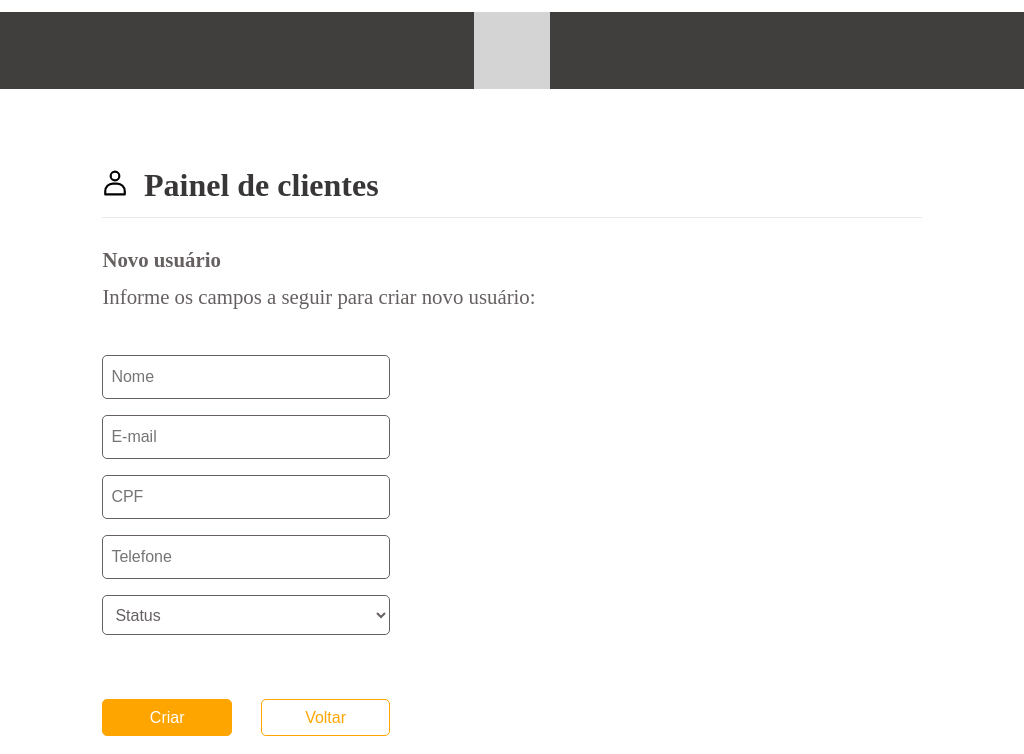
Test: Testando a página de criar usuário › Testa se a mensagem de erro de e-mail já cadastrado aparece corretamente
Type "José" into the field with placeholder "Nome" at (246, 377), box [102, 355, 390, 399]
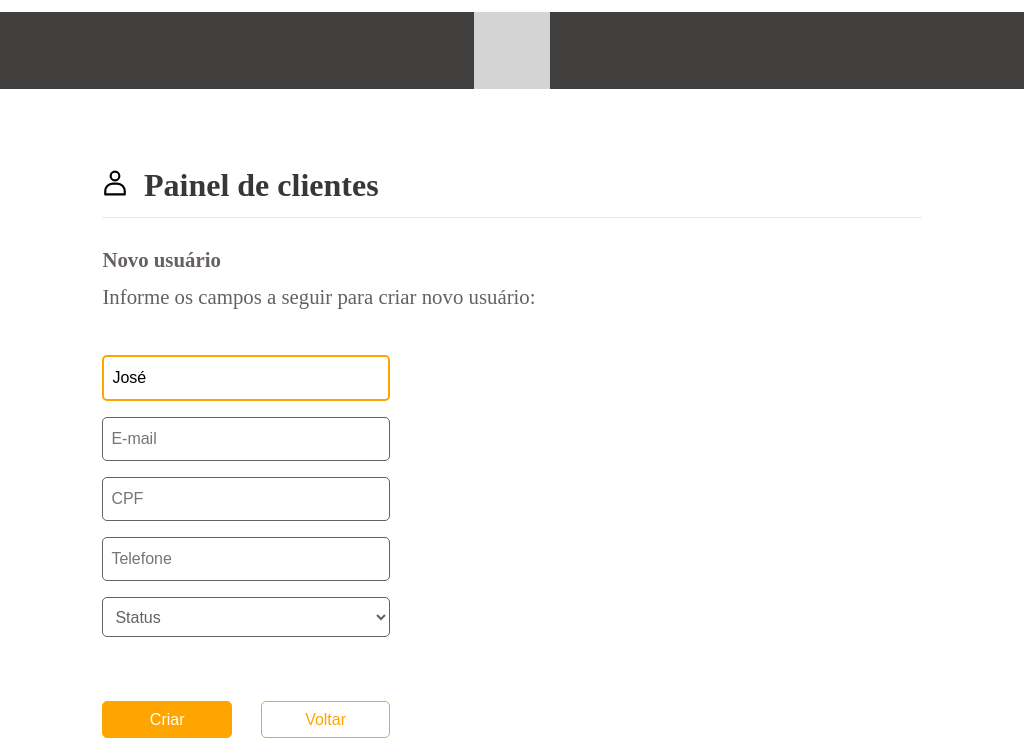
Type "jose@uol.com" into the field with placeholder "E-mail" at (246, 439), box [102, 417, 390, 461]
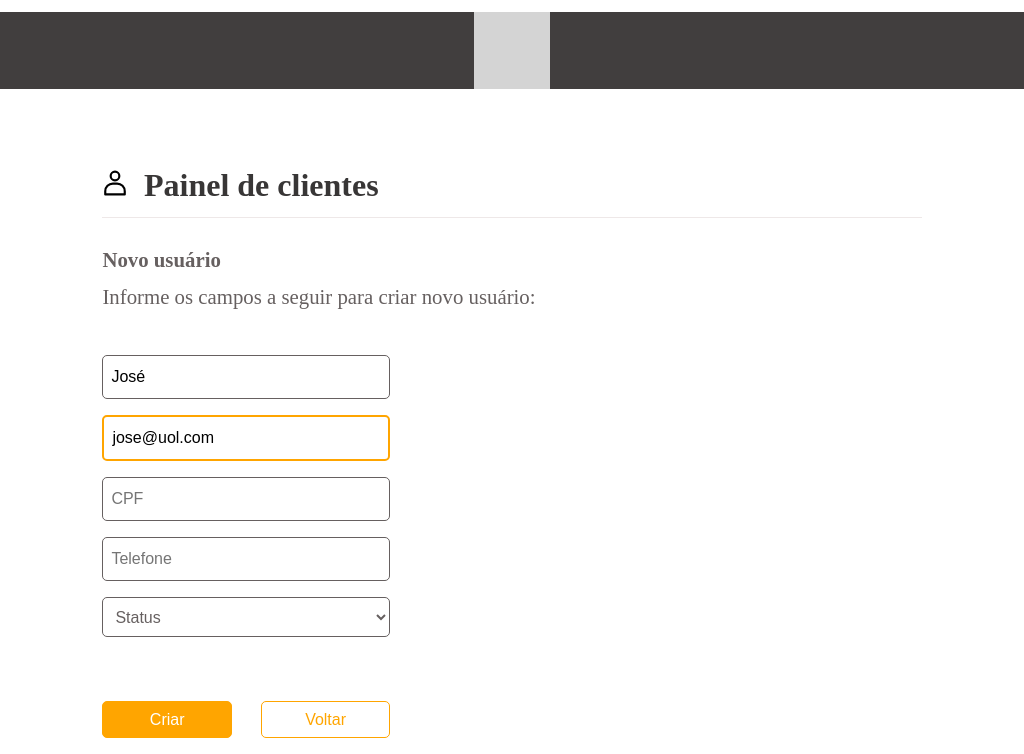
Type "12345678900" into the field with placeholder "CPF" at (246, 499), box [102, 477, 390, 521]
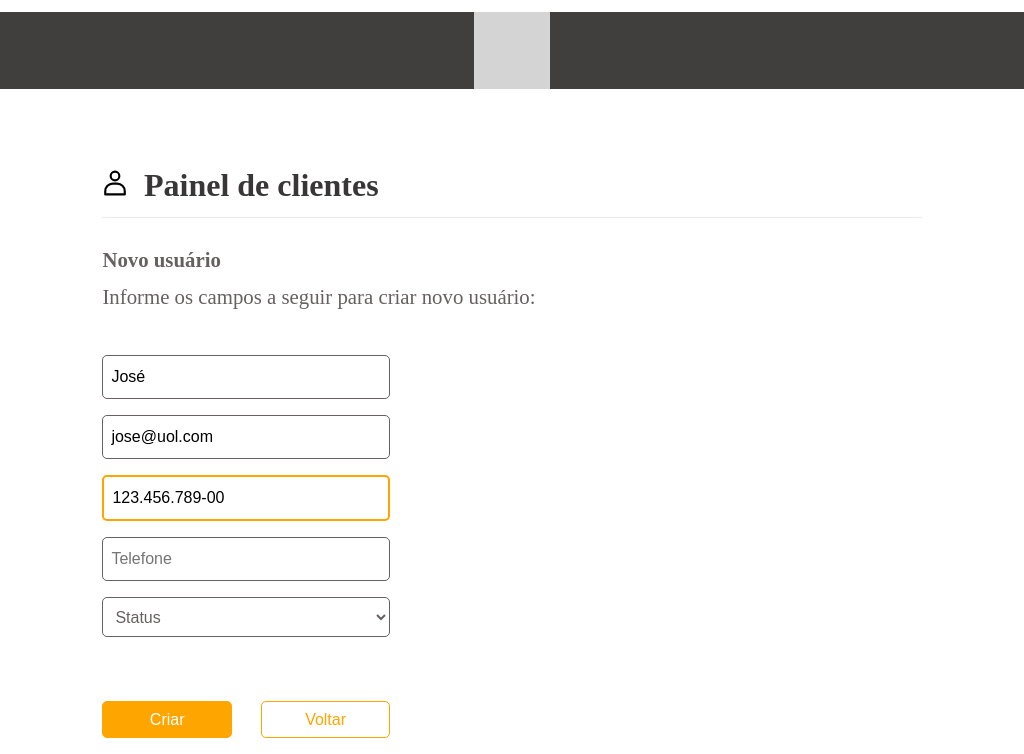
Type "1199999999" into the field with placeholder "Telefone" at (246, 559), box [102, 537, 390, 581]
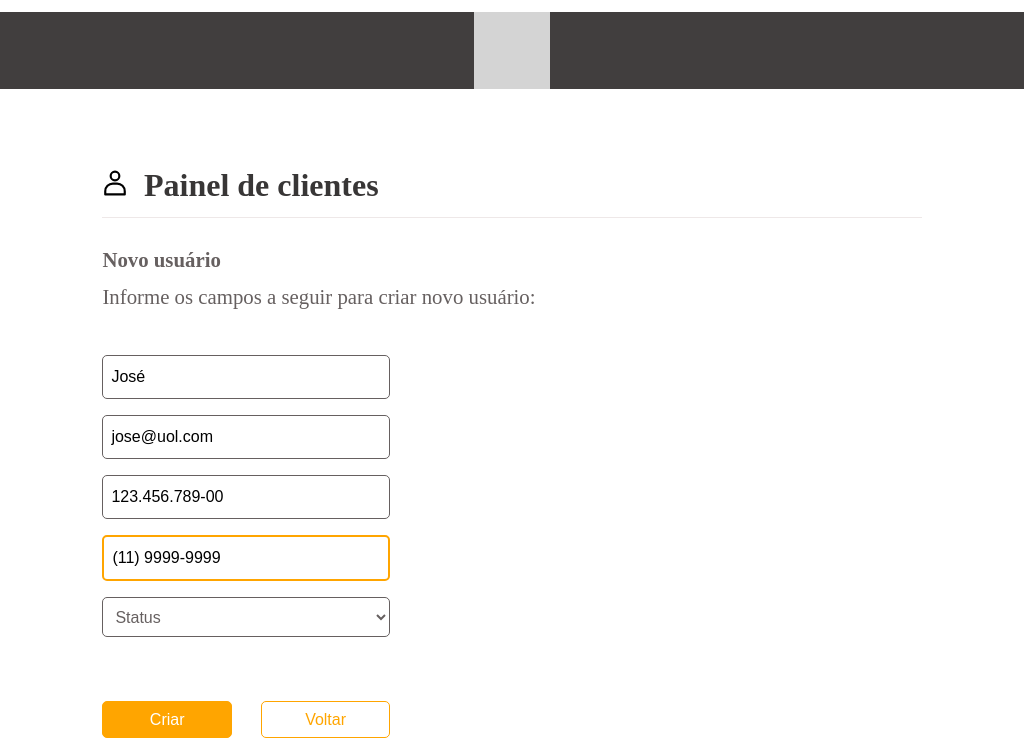
Select "Ativo" in the dropdown at (246, 617), box [102, 597, 390, 637]
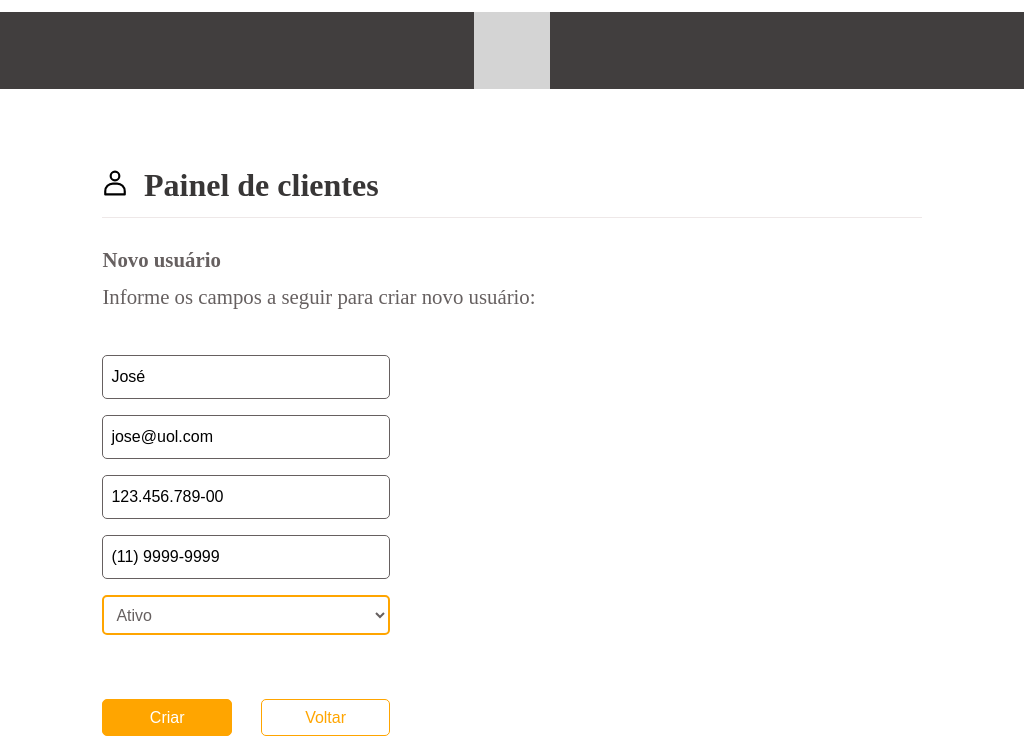
Click the button "Criar" at (167, 718), box [102, 699, 232, 736]
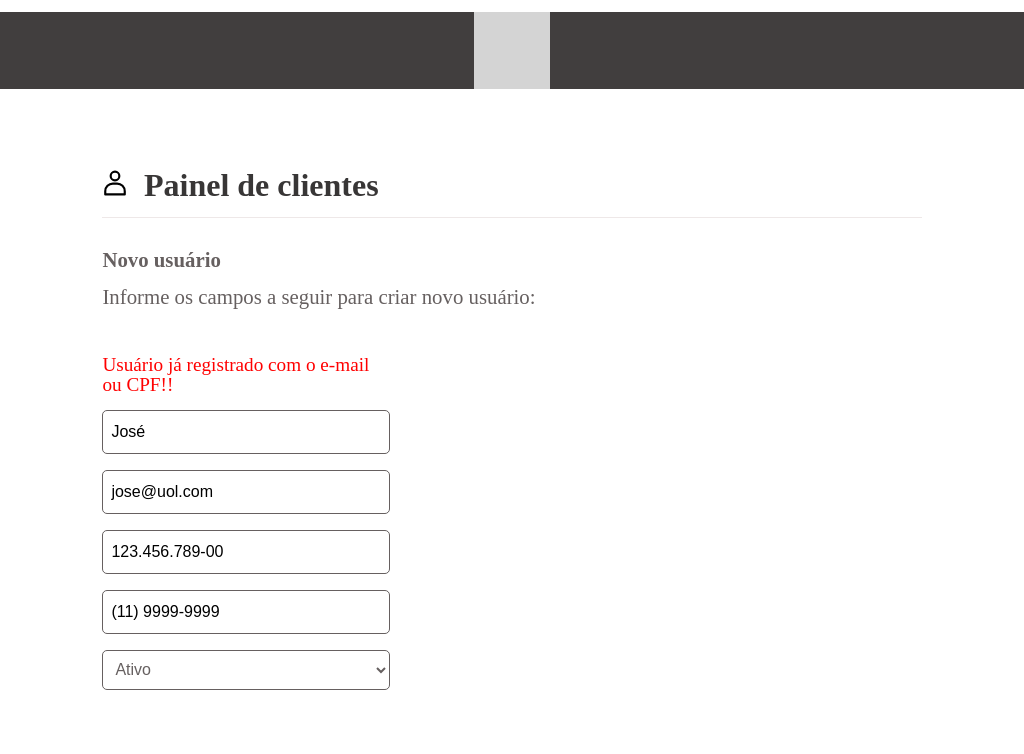
Expected: the heading "Usuário já registrado com o e-mail ou CPF!!" is shown, [102, 355, 390, 394]
